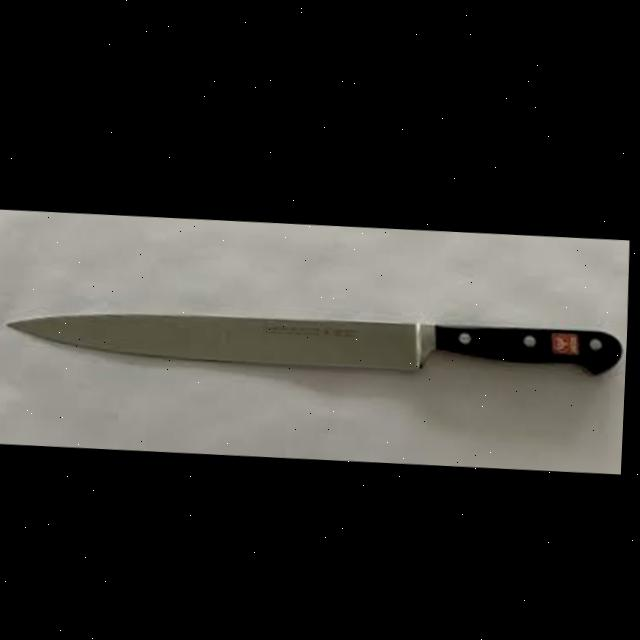knife: (7, 289, 627, 383)
